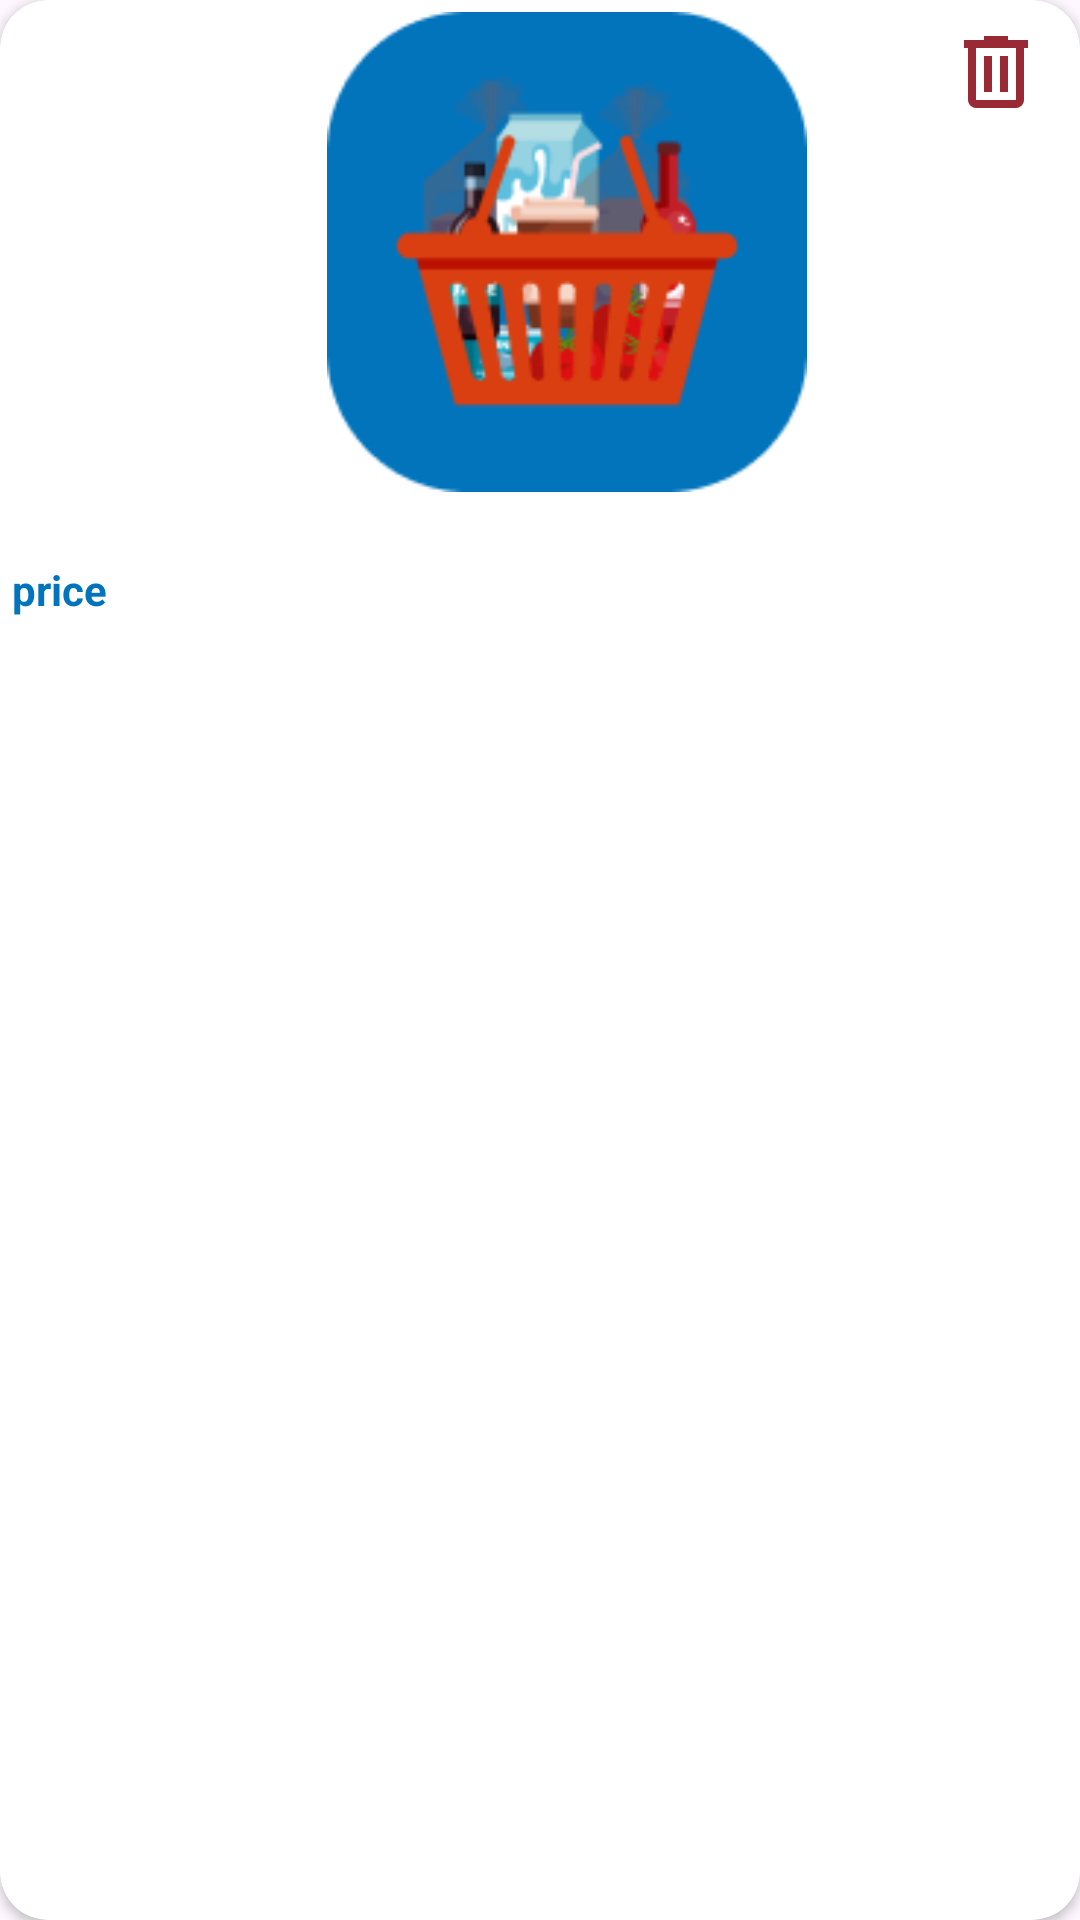

Icon bounding boxes for this 1080×1920 phone screenshot, format (x1, y1, x2, y2):
حذف: (964, 36, 1028, 108)
